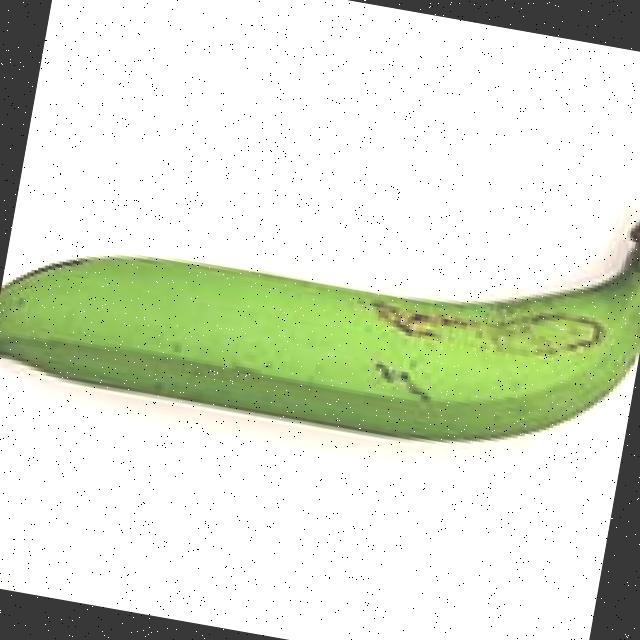Raw: (0, 56, 640, 505)
